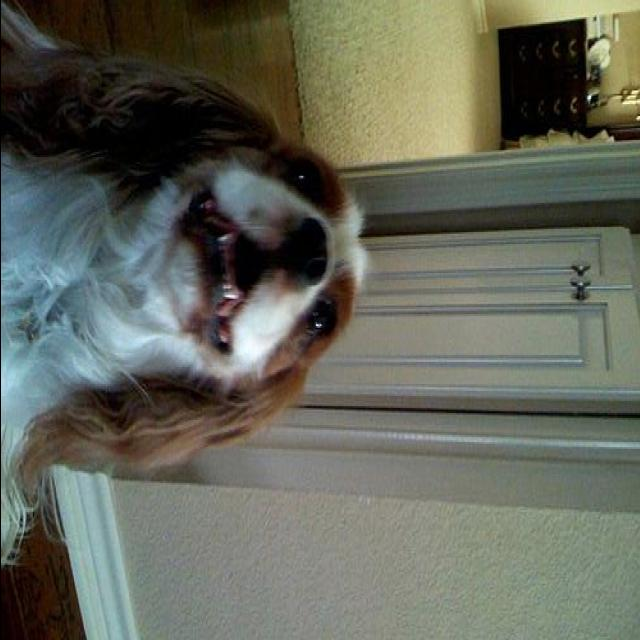blenheim_spaniel: (2, 4, 374, 572)
